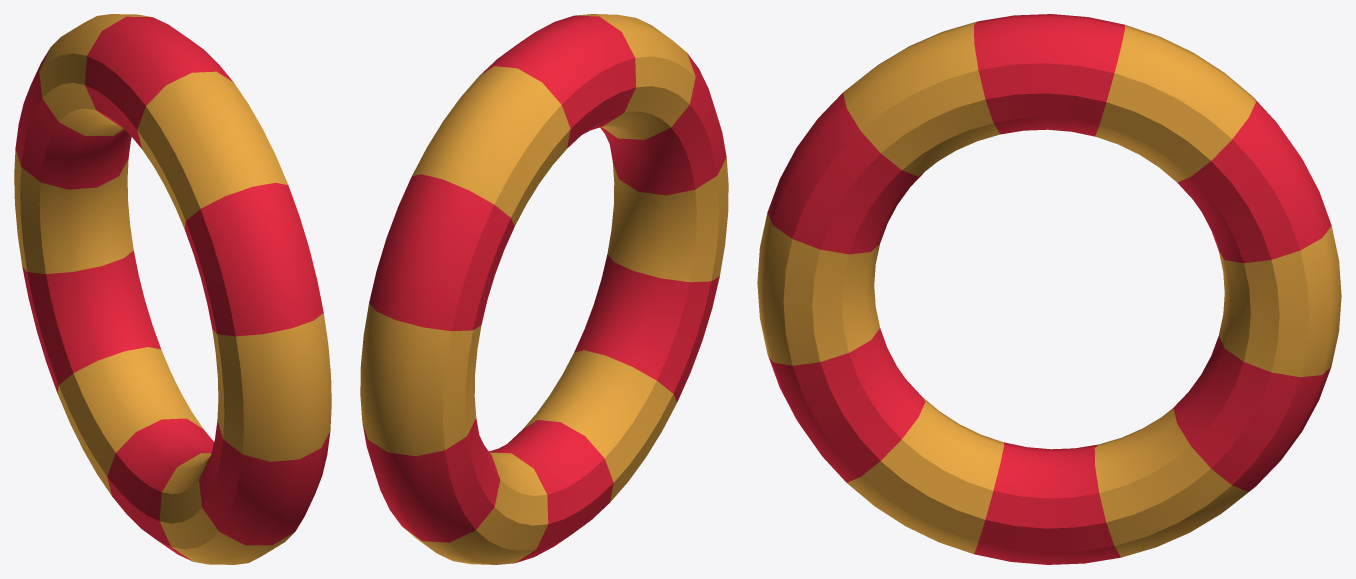
The model's file is F_Koło_Ratunkoiwe.fbx.
3 renders of one model, left to right at view 1: azimuth 30°, elevation 25°; view 2: azimuth 150°, elevation 25°; view 3: azimuth 270°, elevation 25°, orthographic. The views are drawn at different scales.
Parts seen in each view (by area): view 1: F_Koło_ratunkowe; view 2: F_Koło_ratunkowe; view 3: F_Koło_ratunkowe.
Boxes of the visible parts, x1=… form: F_Koło_ratunkowe: x1=14, y1=14, x2=331, y2=564; F_Koło_ratunkowe: x1=360, y1=14, x2=728, y2=564; F_Koło_ratunkowe: x1=757, y1=14, x2=1341, y2=564.
Bounding box in the file's own units: 21.13 × 79.06 × 79.05.
